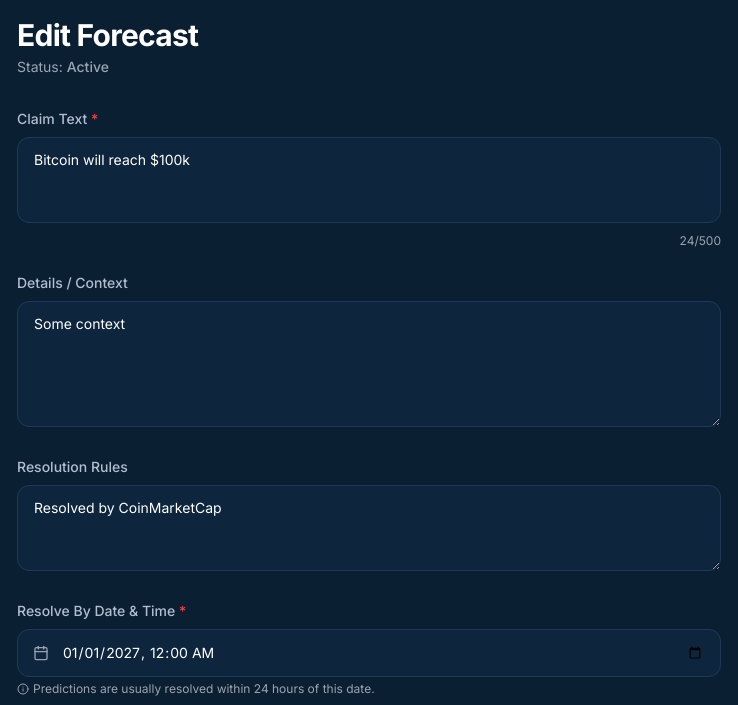
Test case: EditForecastClient › disables Save when claimText is empty
Clear the text box showing "Bitcoin will reach $100k" at (369, 180), box [17,137,721,223]
(page scrolled)
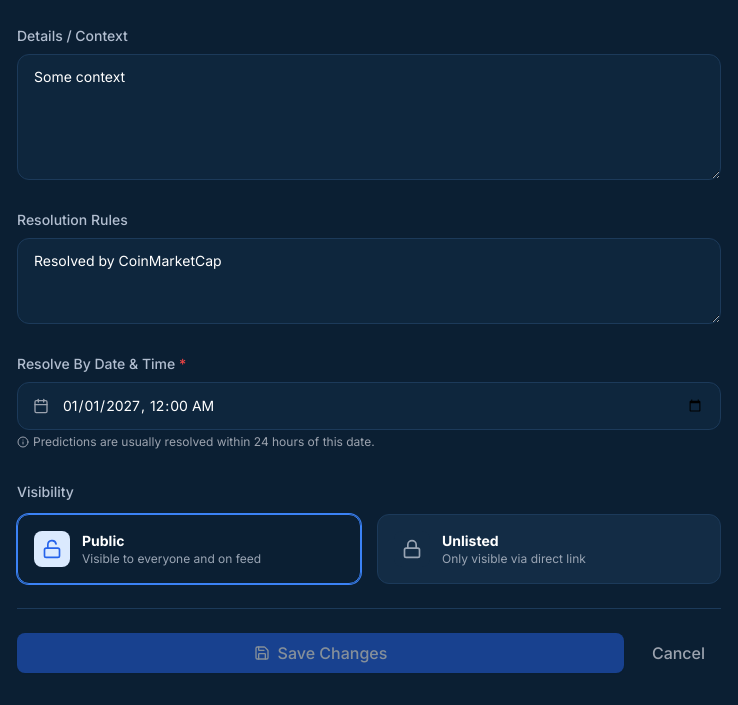
Expected: the button "Save Changes" is disabled, [17,633,624,673]
